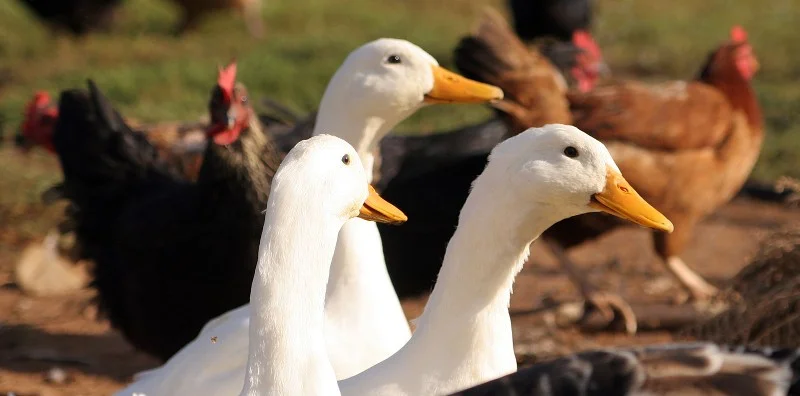ayam: (25, 57, 262, 299), (679, 15, 785, 245)
bebek: (448, 119, 675, 387), (272, 132, 410, 395), (299, 25, 510, 155)
